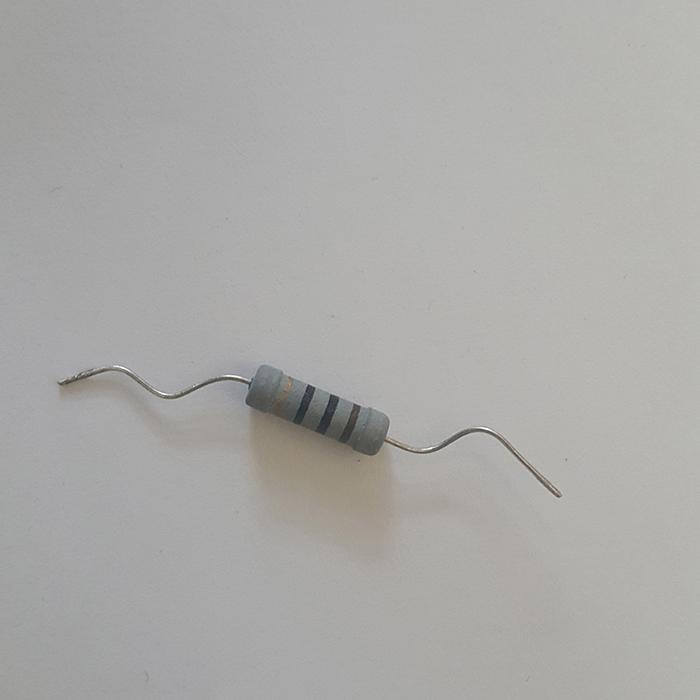resistor: (243, 362, 393, 455)
